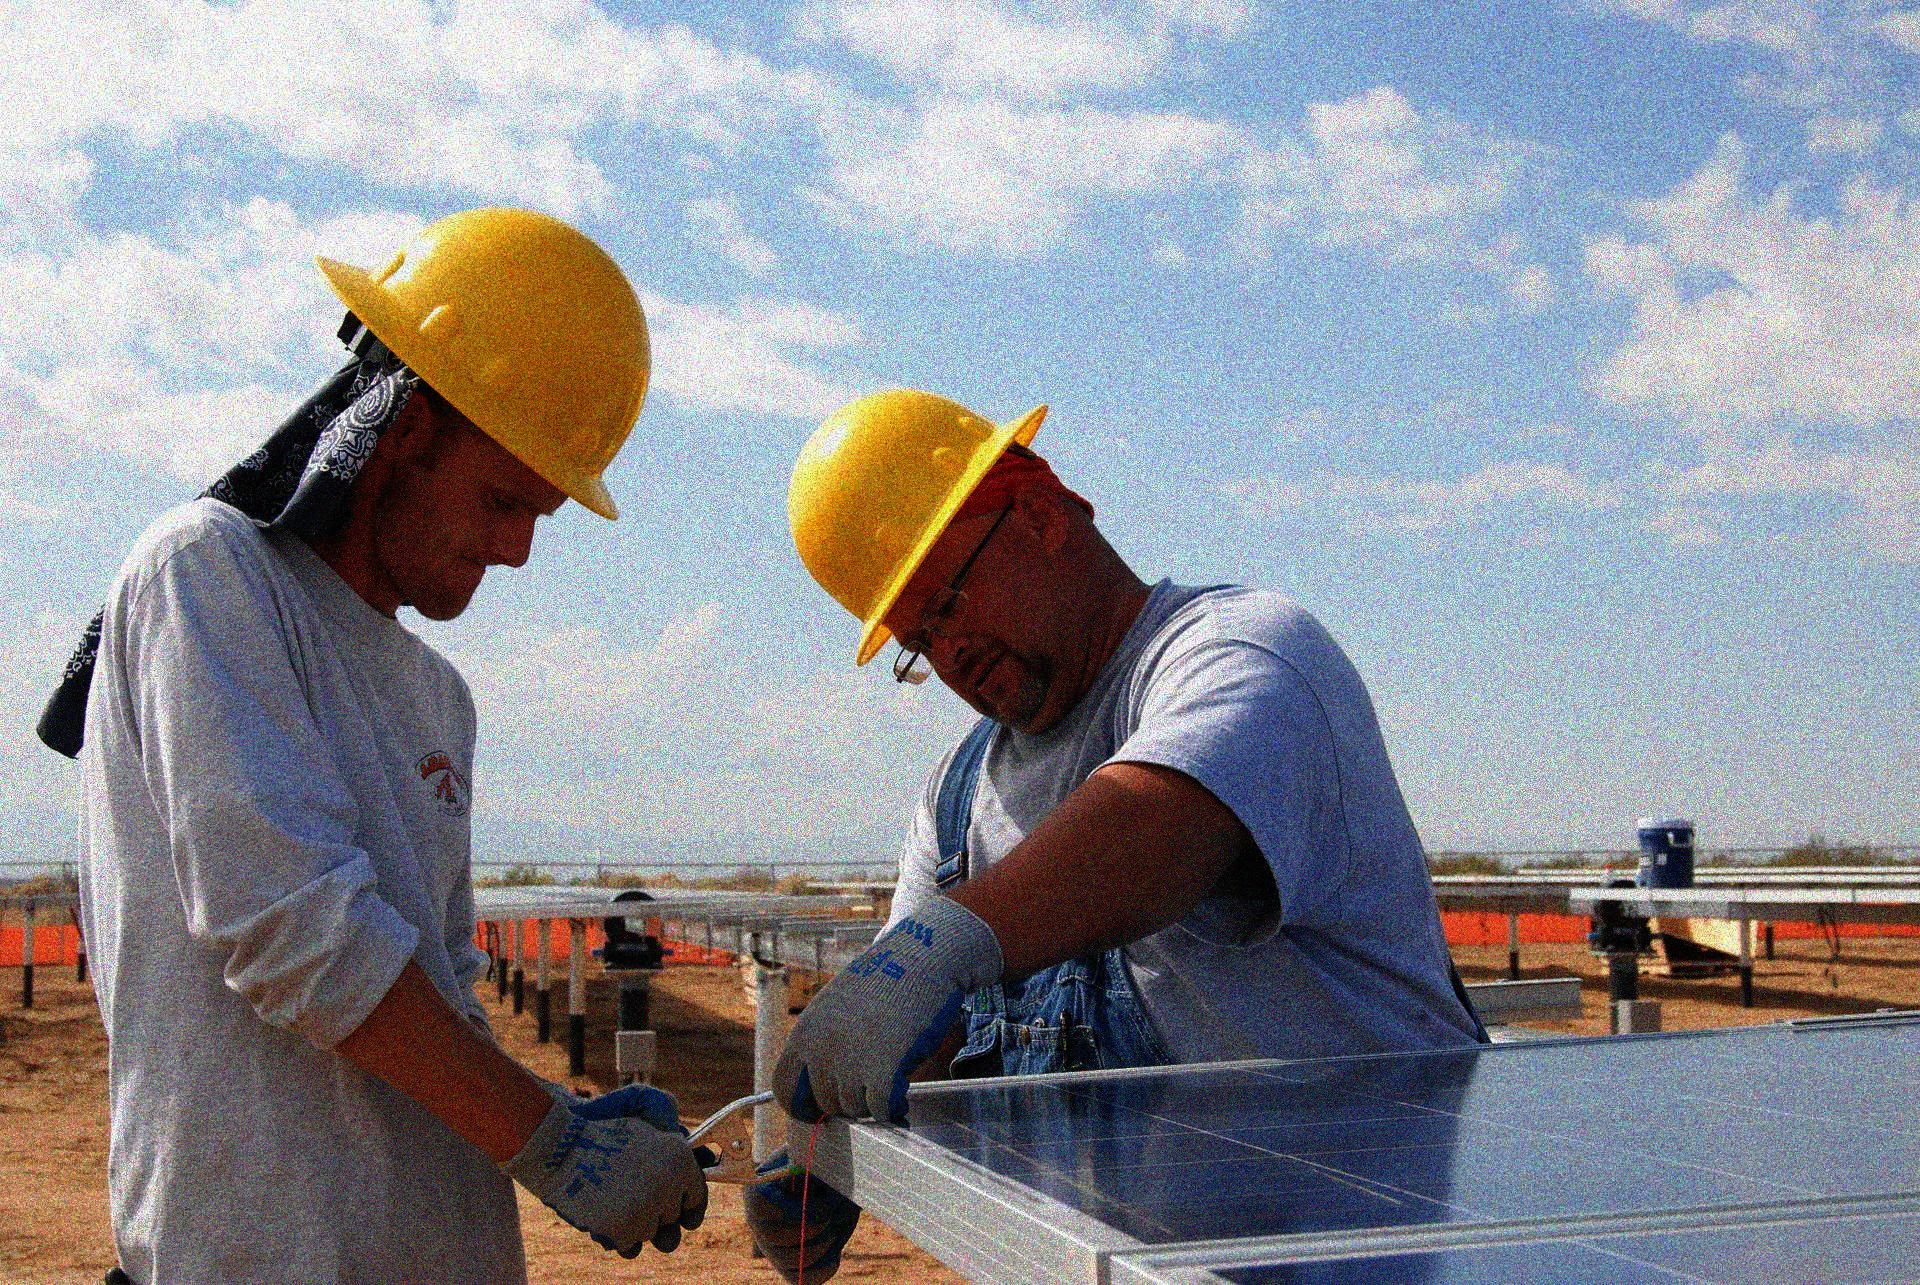helmet: (303, 202, 658, 632), (779, 376, 1071, 740)
